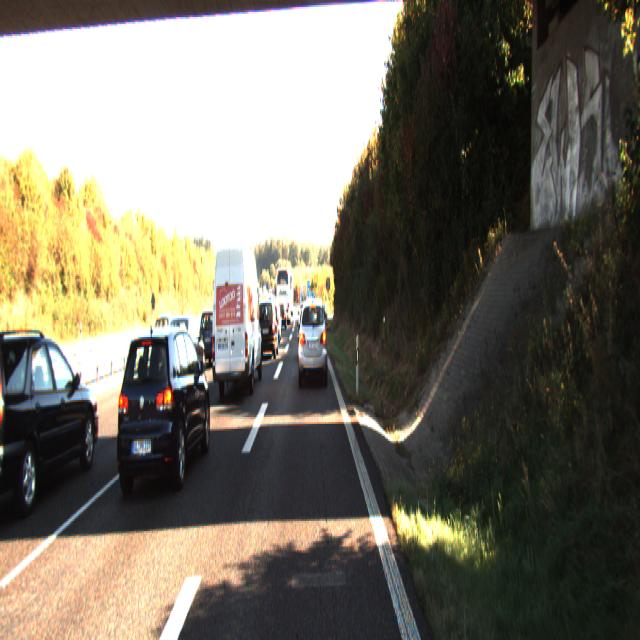Car: (0, 326, 104, 534), (112, 319, 212, 499), (0, 319, 35, 457), (162, 311, 206, 390), (298, 294, 328, 386), (255, 297, 279, 359)
Misc: (276, 266, 291, 324)
Van: (209, 242, 263, 399)
